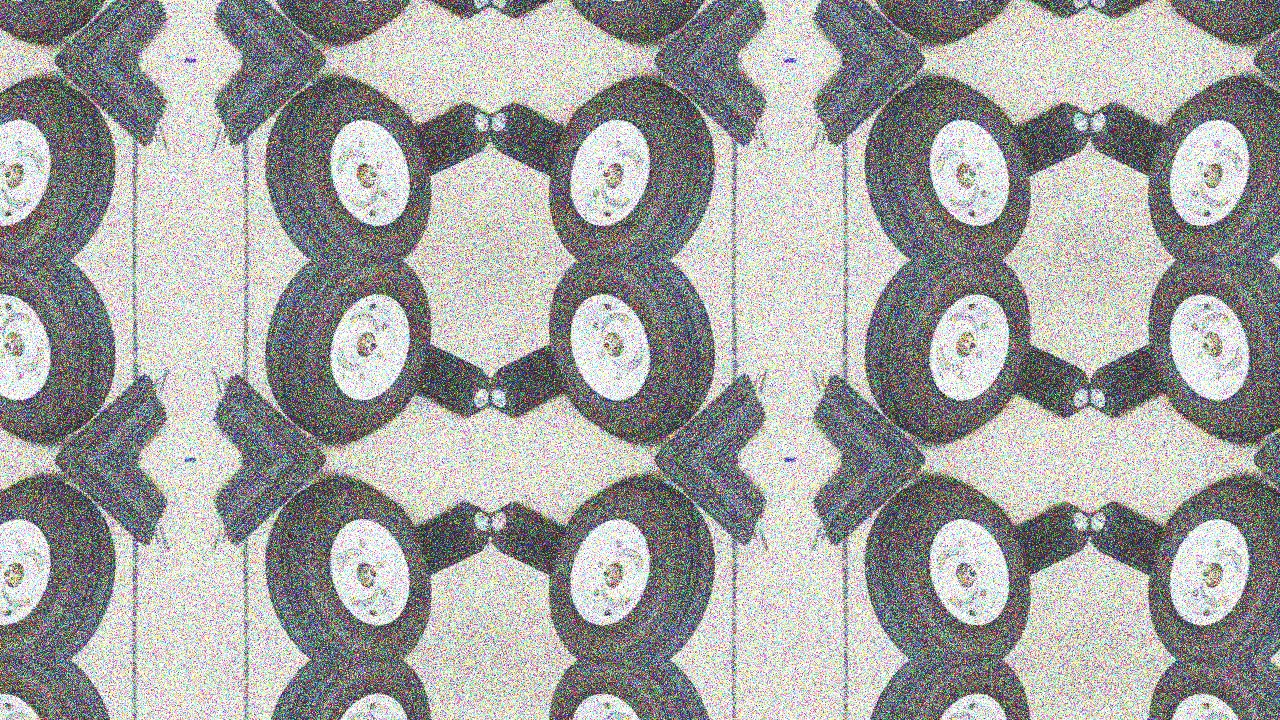chock: (40, 60, 170, 148), (210, 60, 340, 148), (640, 60, 770, 148), (810, 60, 940, 148), (40, 372, 170, 460), (210, 372, 340, 460), (640, 372, 770, 460), (810, 372, 940, 460), (40, 460, 170, 548), (210, 460, 340, 548), (640, 460, 770, 548), (810, 460, 940, 548), (388, 101, 490, 181), (490, 101, 592, 181), (988, 101, 1090, 181), (1090, 101, 1192, 181), (388, 339, 490, 419), (490, 339, 592, 419), (988, 339, 1090, 419), (1090, 339, 1192, 419), (388, 501, 490, 581), (490, 501, 592, 581), (988, 501, 1090, 581), (1090, 501, 1192, 581), (40, 0, 170, 60), (210, 0, 340, 60), (640, 0, 770, 60), (810, 0, 940, 60), (1240, 60, 1280, 148), (1240, 372, 1280, 460), (1240, 460, 1280, 548), (1240, 0, 1280, 60), (388, 0, 490, 19), (490, 0, 592, 19), (988, 0, 1090, 19), (1090, 0, 1192, 19)
wheel: (266, 79, 435, 260), (545, 79, 714, 260), (866, 79, 1035, 260), (266, 260, 435, 441), (545, 260, 714, 441), (866, 260, 1035, 441), (266, 479, 435, 660), (545, 479, 714, 660), (866, 479, 1035, 660), (1145, 79, 1280, 260), (1145, 260, 1280, 441), (1145, 479, 1280, 660), (0, 79, 114, 260), (0, 260, 114, 441), (0, 479, 114, 660), (266, 660, 435, 720), (545, 660, 714, 720), (866, 660, 1035, 720), (1145, 660, 1280, 720), (266, 0, 435, 41), (545, 0, 714, 41), (866, 0, 1035, 41), (0, 660, 114, 720), (1145, 0, 1280, 41), (0, 0, 114, 41)
